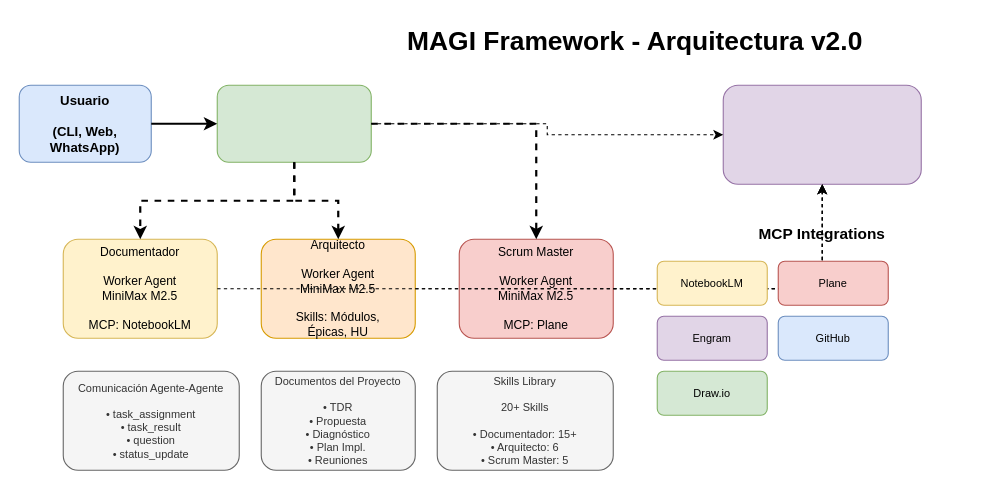
This 985x490 diagram has some shape labels left out. Here are the shapes that lost their labels. From the top down, the box of each, then its label:
(216, 84, 371, 162): Orquestador Leader Agent Kimi K2.5
(722, 84, 921, 184): Sistema de Memoria (Engram) • mem_save • mem_search • mem_session_summary
